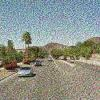cars: (17, 66, 34, 78)
